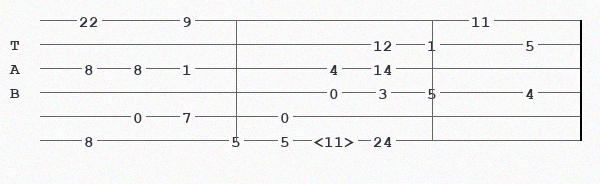0: (133, 109, 147, 123), (280, 109, 294, 123), (329, 85, 343, 99)
1: (182, 61, 196, 75), (427, 37, 441, 51)
11: (471, 13, 495, 27)
12: (373, 37, 397, 51)
14: (373, 61, 397, 75)
22: (79, 13, 103, 27)
24: (373, 133, 397, 147)
3: (378, 85, 392, 99)
4: (329, 61, 343, 75), (525, 85, 539, 99)
5: (231, 133, 245, 147), (280, 133, 294, 147), (427, 85, 441, 99), (525, 37, 539, 51)
7: (182, 109, 196, 123)
8: (84, 133, 98, 147), (84, 61, 98, 75), (133, 61, 147, 75)
9: (182, 13, 196, 27)
harmonic: (314, 133, 359, 147)
